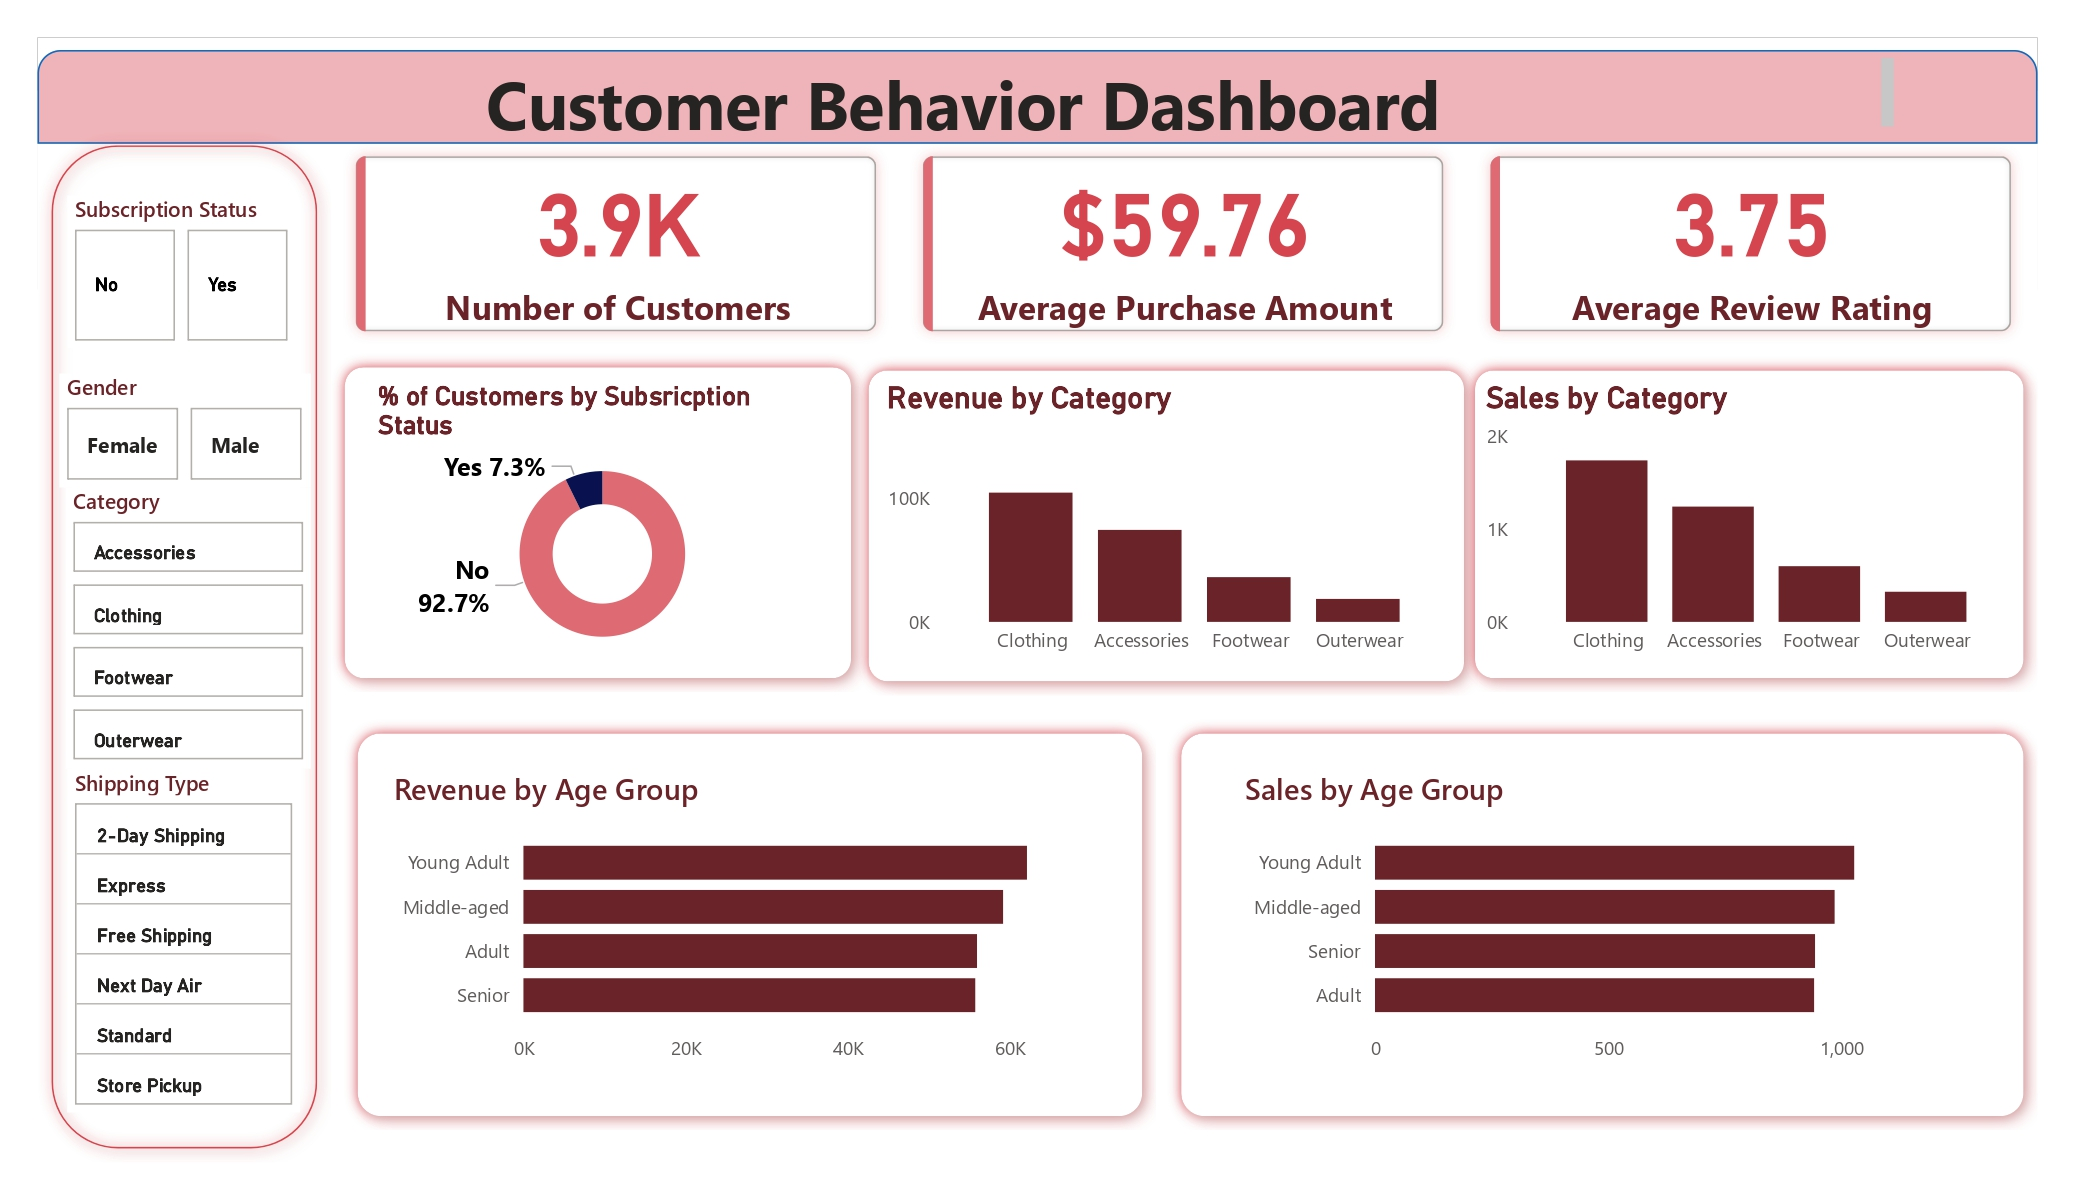

This screenshot's page, from the dashboard's own definition file:
{"tool":"powerbi","page":{"name":"Page 1","canvas":[1280,720],"ordinal":0},"visuals":[{"type":"cardVisual","fields":{"Data":["customer_behavior customer.Number of Customers","customer_behavior customer.Average Purchase Amount","customer_behavior customer.Average Review Rating"]},"box":[187.7,60.3,1092.3,144],"z":0},{"type":"shape","box":[0,7.8,1280,60.3],"z":1000},{"type":"textbox","box":[0,7.8,1193.4,60.3],"z":2000},{"type":"shape","box":[187.7,202.3,342.4,216.9],"z":3000},{"type":"donutChart","title":"% of Customers by Subsricption Status","fields":{"Category":["customer_behavior customer.subscription_status"],"Y":["Sum(customer_behavior customer.customer_id)"]},"box":[213,218.8,296.7,184.8],"z":4000},{"type":"shape","box":[523.3,204.3,398.8,216.9],"z":5000},{"type":"shape","box":[911.4,204.3,368.6,215],"z":6000},{"type":"clusteredColumnChart","title":"Revenue by Category","fields":{"Category":["customer_behavior customer.category"],"Y":["Sum(customer_behavior customer.purchase_amount)"]},"box":[538.8,218.8,367.7,184.8],"z":7000},{"type":"clusteredColumnChart","title":"Sales by Category","fields":{"Category":["customer_behavior customer.category"],"Y":["CountNonNull(customer_behavior customer.customer_id)"]},"box":[922.1,218.8,347.2,184.8],"z":8000},{"type":"shape","box":[0,60.3,187.7,659.5],"z":9000},{"type":"advancedSlicerVisual","title":"Subscription Status","fields":{"Values":["customer_behavior customer.subscription_status"]},"box":[19.5,101.2,146.9,98.2],"z":10000},{"type":"advancedSlicerVisual","title":"Gender","fields":{"Values":["customer_behavior customer.gender"]},"box":[13.6,215,161.5,72.9],"z":11000},{"type":"advancedSlicerVisual","title":"Category","fields":{"Values":["customer_behavior customer.category"]},"box":[17.5,287.9,157.6,179.9],"z":12000},{"type":"advancedSlicerVisual","title":"Shipping Type","fields":{"Values":["customer_behavior customer.shipping_type"]},"box":[19.5,467.8,148.8,219.8],"z":13000},{"type":"shape","box":[195.5,435.7,520.4,263.6],"z":14000},{"type":"shape","box":[722.7,435.7,557.3,263.6],"z":15000},{"type":"clusteredBarChart","title":"Revenue by Age Group","fields":{"Category":["customer_behavior customer.age_group"],"Y":["Sum(customer_behavior customer.purchase_amount)"]},"box":[222.7,467.8,465.9,197.4],"z":16000},{"type":"clusteredBarChart","title":"Sales by Age Group","fields":{"Category":["customer_behavior customer.age_group"],"Y":["CountNonNull(customer_behavior customer.customer_id)"]},"box":[768.4,467.8,465.9,197.4],"z":17000}]}

Visuals, with their boxes in screenshot pixels (x1, y1, x2, y2):
cardVisual - customer_behavior customer.Number of Customers x customer_behavior customer.Average Purchase Amount: pyautogui.locateOnScreen(331, 132, 2038, 357)
shape: pyautogui.locateOnScreen(38, 50, 2038, 144)
textbox: pyautogui.locateOnScreen(38, 50, 1902, 144)
shape: pyautogui.locateOnScreen(331, 354, 866, 693)
"% of Customers by Subsricption Status" donutChart: pyautogui.locateOnScreen(370, 379, 834, 668)
shape: pyautogui.locateOnScreen(855, 357, 1478, 696)
shape: pyautogui.locateOnScreen(1462, 357, 2038, 693)
"Revenue by Category" clusteredColumnChart: pyautogui.locateOnScreen(879, 379, 1454, 668)
"Sales by Category" clusteredColumnChart: pyautogui.locateOnScreen(1478, 379, 2021, 668)
shape: pyautogui.locateOnScreen(38, 132, 331, 1162)
"Subscription Status" advancedSlicerVisual: pyautogui.locateOnScreen(68, 196, 298, 349)
"Gender" advancedSlicerVisual: pyautogui.locateOnScreen(59, 373, 311, 487)
"Category" advancedSlicerVisual: pyautogui.locateOnScreen(65, 487, 311, 768)
"Shipping Type" advancedSlicerVisual: pyautogui.locateOnScreen(68, 768, 300, 1112)
shape: pyautogui.locateOnScreen(343, 718, 1156, 1130)
shape: pyautogui.locateOnScreen(1167, 718, 2038, 1130)
"Revenue by Age Group" clusteredBarChart: pyautogui.locateOnScreen(385, 768, 1113, 1077)
"Sales by Age Group" clusteredBarChart: pyautogui.locateOnScreen(1238, 768, 1966, 1077)
